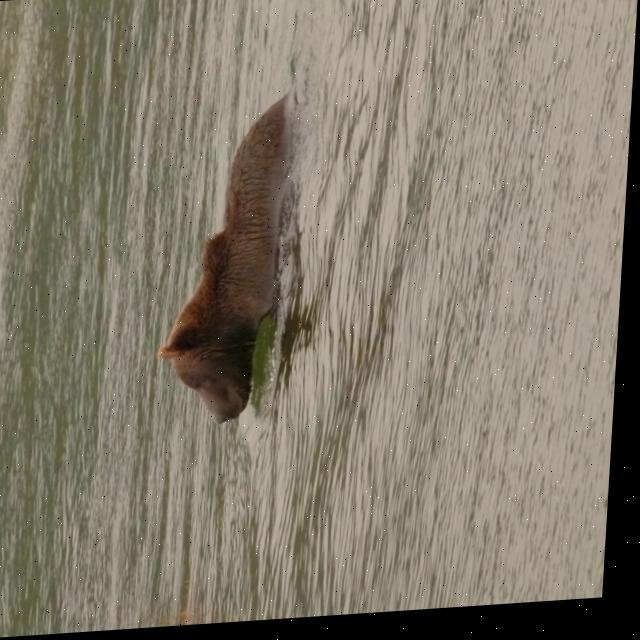bear face: (154, 115, 290, 432)
